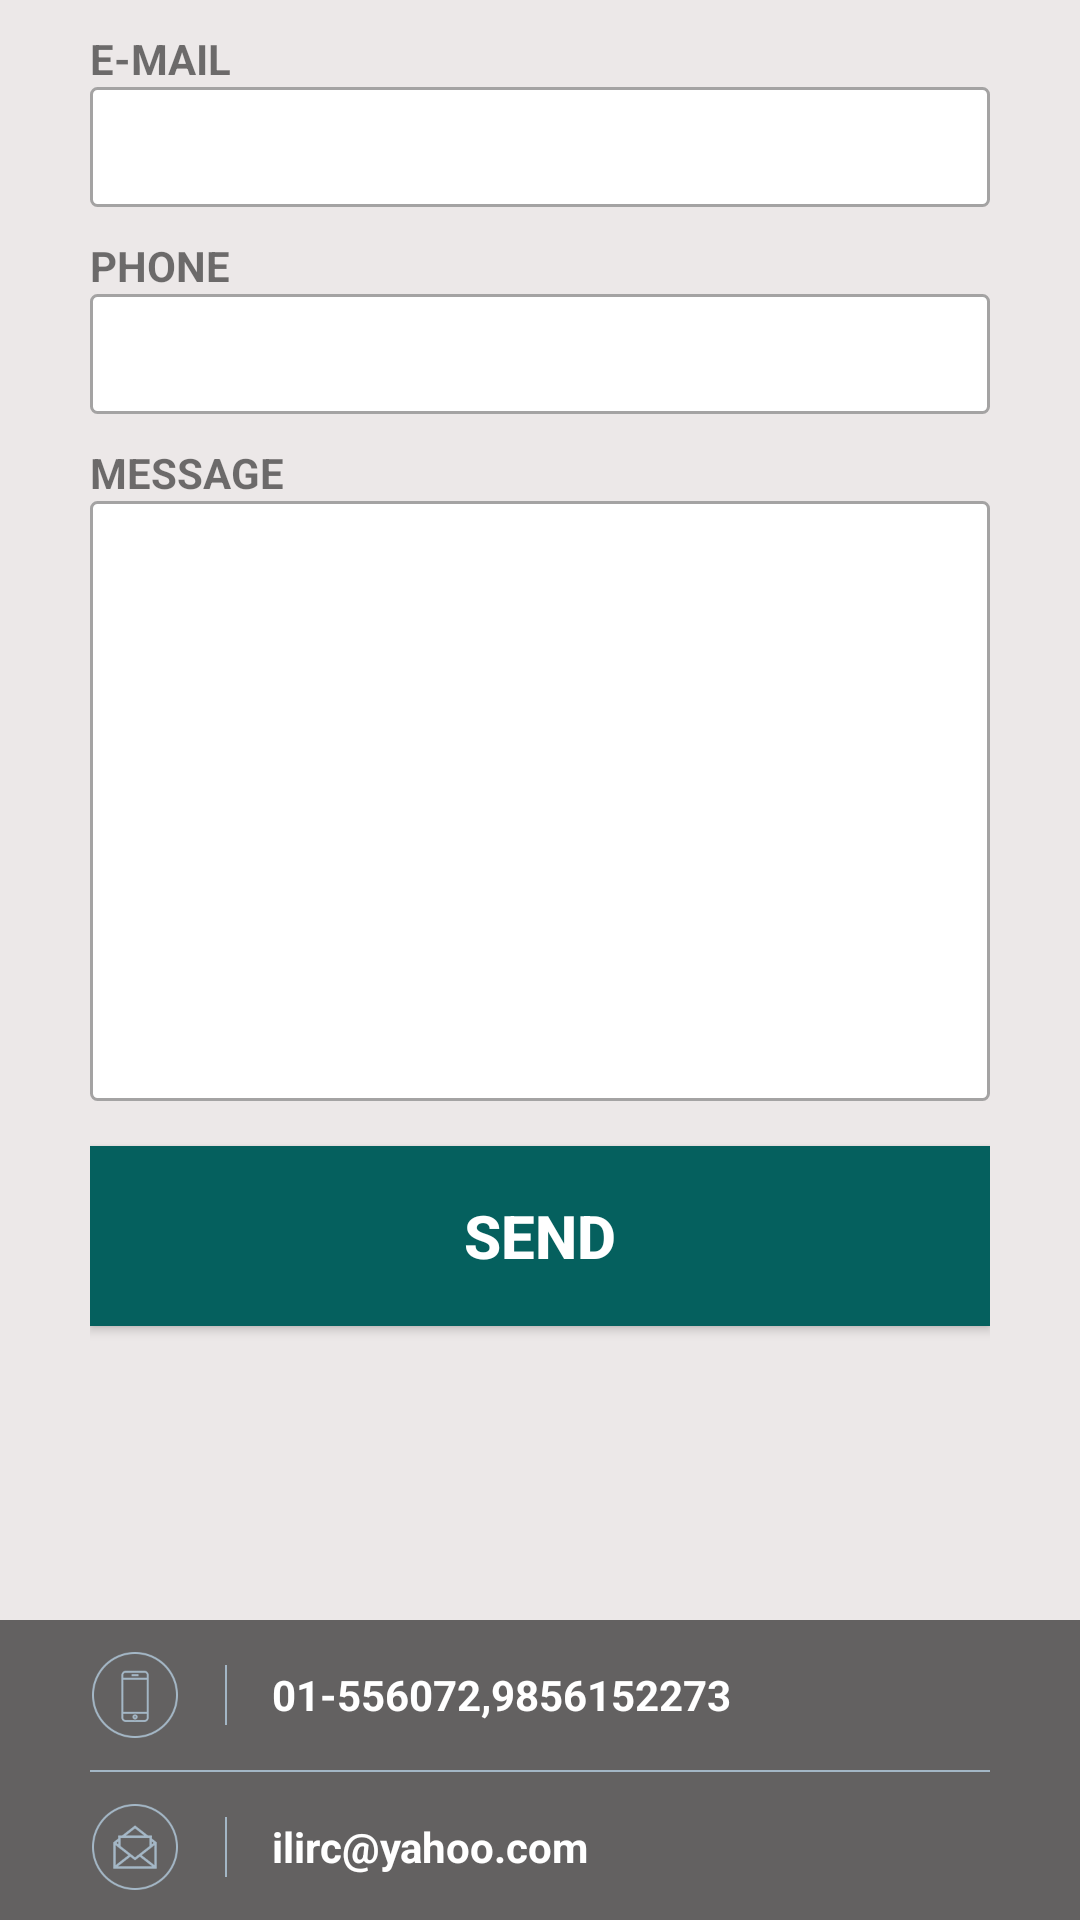

Point at icon controls on the screen. Image size 1080px×1920px, points as (x=x, y=y).
email id: (x=135, y=1847)
mobile number: (x=135, y=1695)
